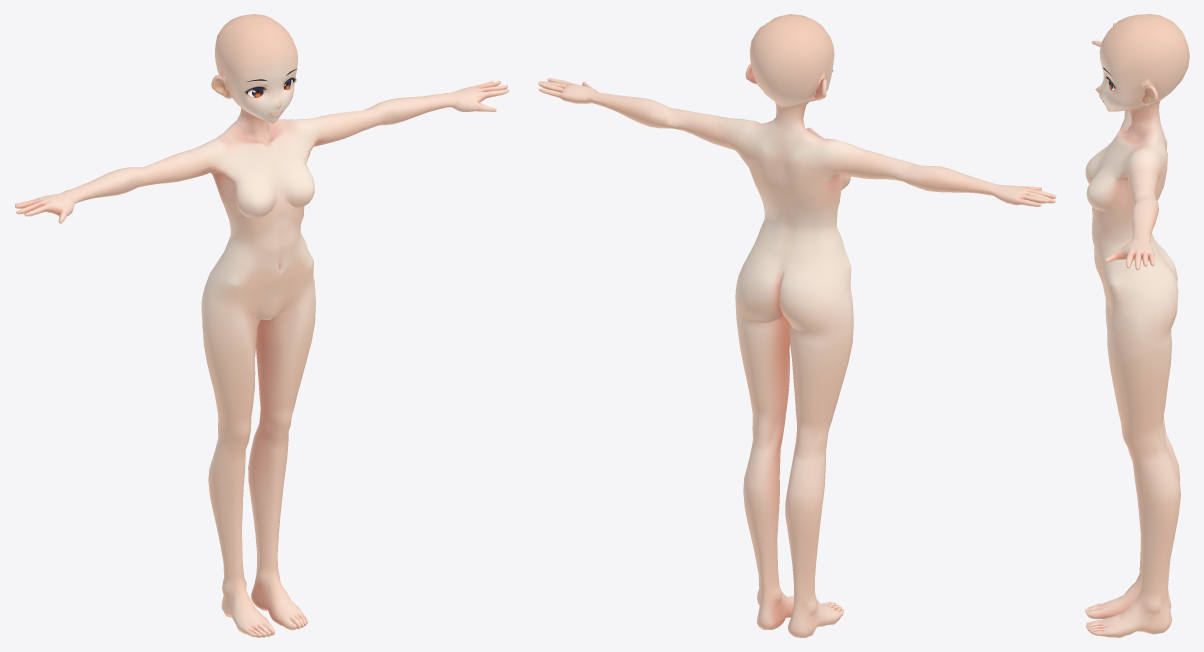
3 views of the same model, side by side, from view 1: azimuth 30°, elevation 25°; view 2: azimuth 150°, elevation 25°; view 3: azimuth 270°, elevation 25° (orthographic). The views are drawn at different scales.
Parts seen in each view (by area): view 1: Body_1, Face_0; view 2: Body_1; view 3: Body_1, Face_0.
Boxes of the visible parts, left/top/right/bottom form: Body_1: left=15, top=14, right=508, bottom=637; Face_0: left=211, top=28, right=297, bottom=123; Body_1: left=538, top=14, right=1056, bottom=637; Body_1: left=1085, top=14, right=1189, bottom=637; Face_0: left=1095, top=18, right=1158, bottom=111.
Bounding box in the file's own units: 1.38 × 1.58 × 0.2474.
Materials: 10 (10 with a texture image).
